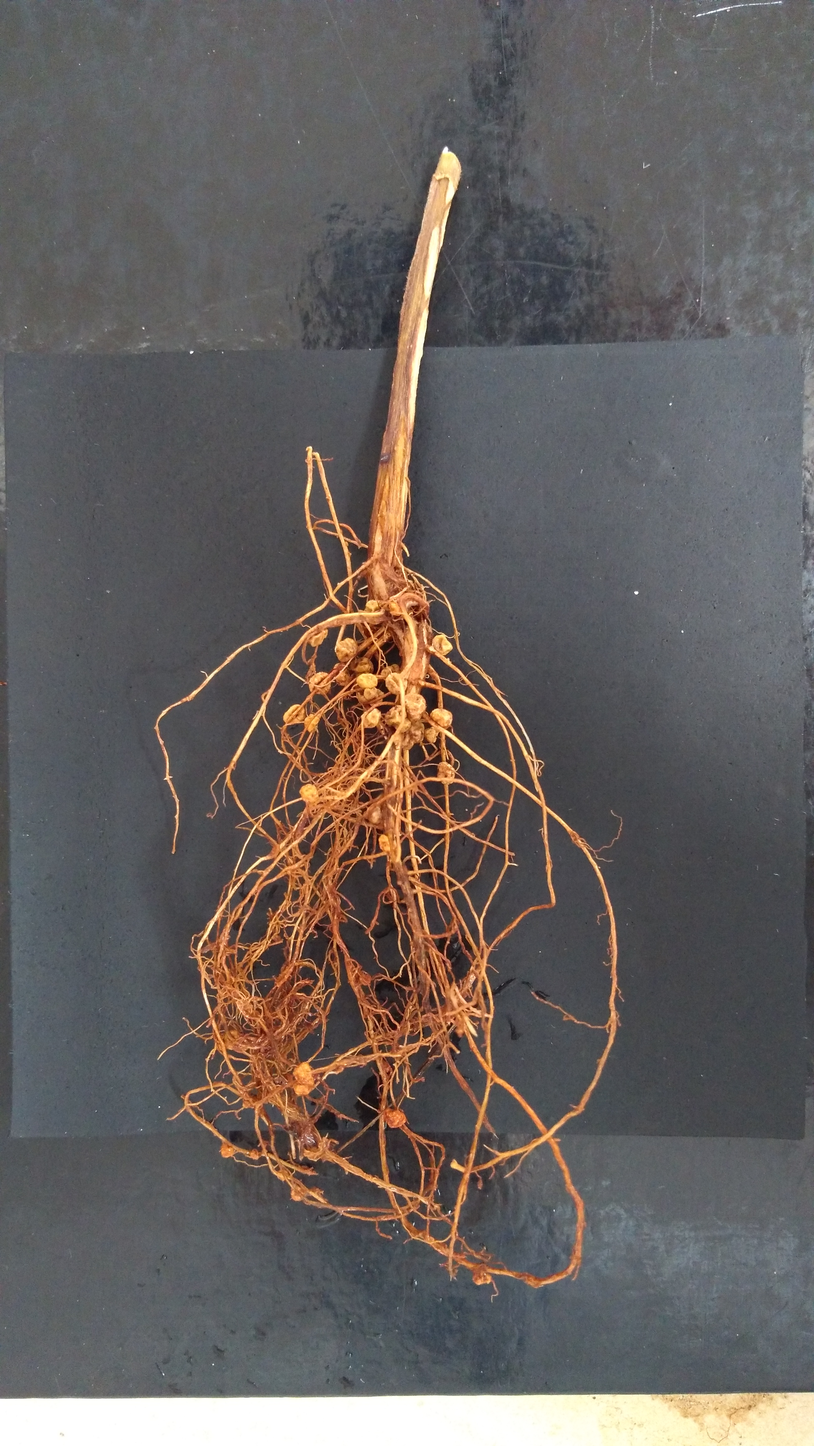nodule: (292, 1061, 316, 1096), (403, 721, 425, 751), (224, 1029, 251, 1053), (384, 672, 409, 695), (405, 693, 427, 719), (308, 671, 331, 695), (282, 702, 306, 725), (336, 637, 358, 662), (331, 662, 353, 687), (429, 708, 454, 730), (383, 704, 406, 727), (430, 634, 454, 656), (383, 1107, 407, 1129), (350, 656, 375, 677), (362, 687, 385, 708), (437, 761, 456, 785), (298, 783, 319, 804), (361, 708, 381, 730), (307, 627, 328, 647), (364, 804, 383, 824), (380, 663, 401, 681), (302, 712, 320, 733), (356, 672, 378, 688), (471, 1270, 492, 1286), (218, 1142, 236, 1159), (290, 1186, 307, 1203), (393, 717, 411, 733), (377, 833, 391, 853), (387, 600, 402, 617), (424, 725, 437, 744), (275, 1168, 290, 1183), (358, 970, 372, 986), (364, 599, 380, 612), (250, 1147, 259, 1161), (477, 1178, 483, 1190)
